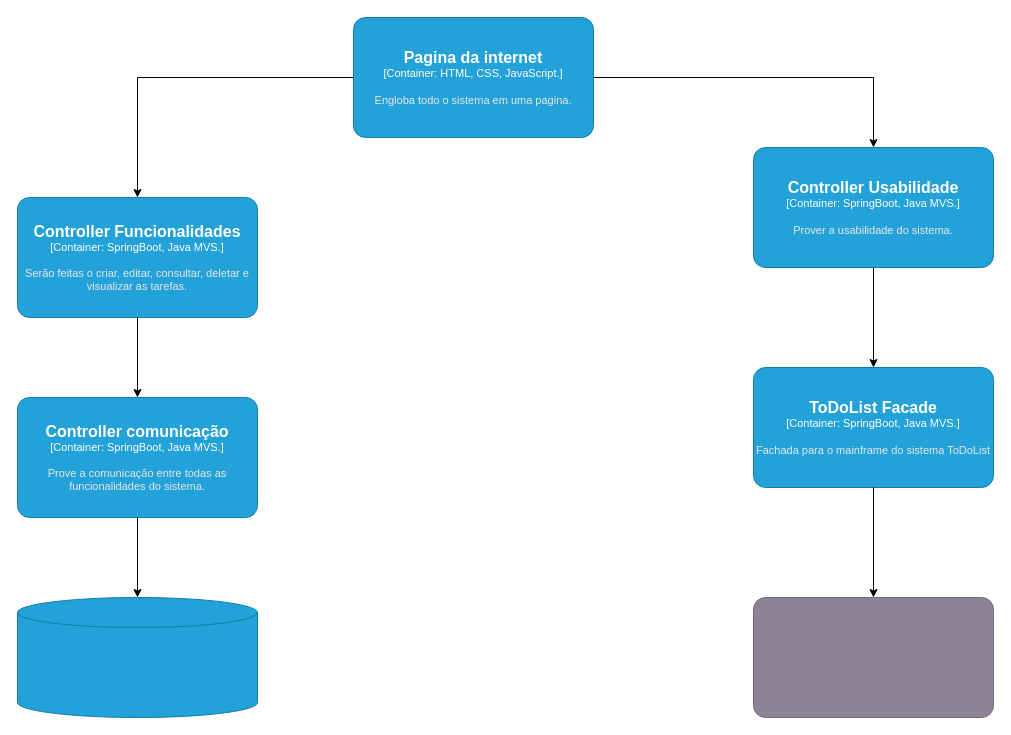
Some shapes in this 1011 by 735 pixel diagram are drawn without their labels. Each missing label, with the centre of its shape:
H2 Server [SQL: H2 Server] Armazenamento.: the point at 137,657
Mainframe ToDoList [Software System] Emgloba todas as requisições do sistema.: the point at 873,657
